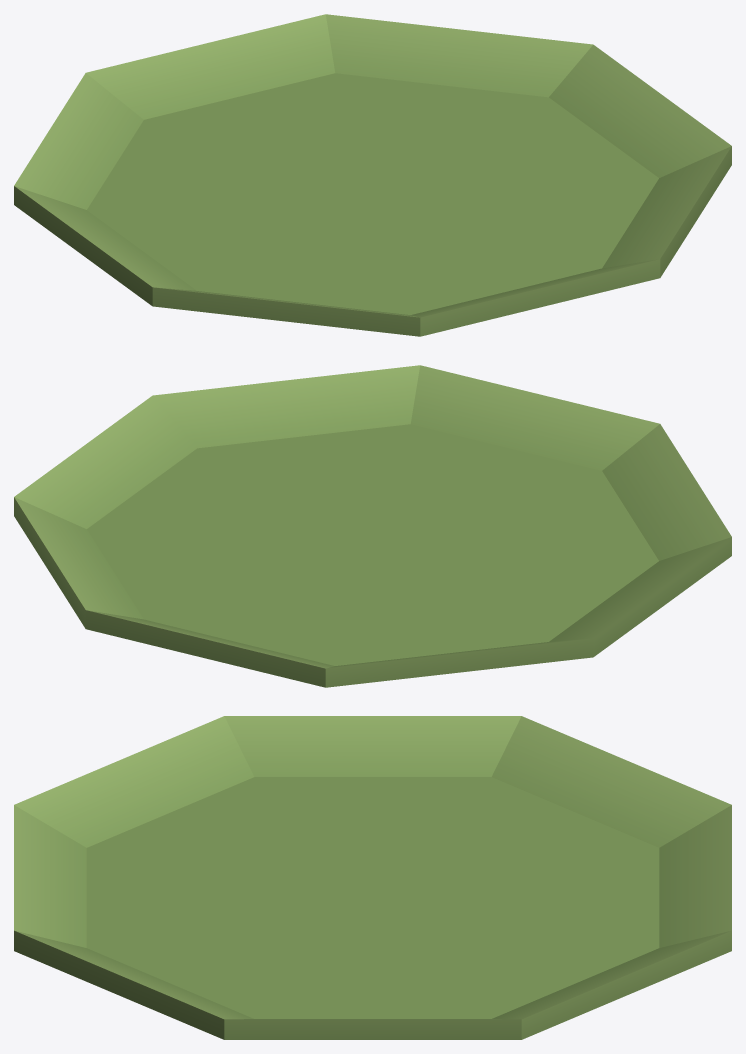
Rendered from Plate3_C4.fbx.
The picture shows the model from 3 angles, top to bottom: view 1: azimuth 30°, elevation 25°; view 2: azimuth 150°, elevation 25°; view 3: azimuth 270°, elevation 25°; orthographic projection. The views are drawn at different scales.
Visible parts, largest first — view 1: Plate3_C4; view 2: Plate3_C4; view 3: Plate3_C4.
Boxes of the visible parts, <box> form: Plate3_C4: <box>14,14,731,336</box>; Plate3_C4: <box>14,365,731,687</box>; Plate3_C4: <box>14,716,731,1039</box>.
Size of the model in its own units: 24.17 by 1.89 by 24.17.
